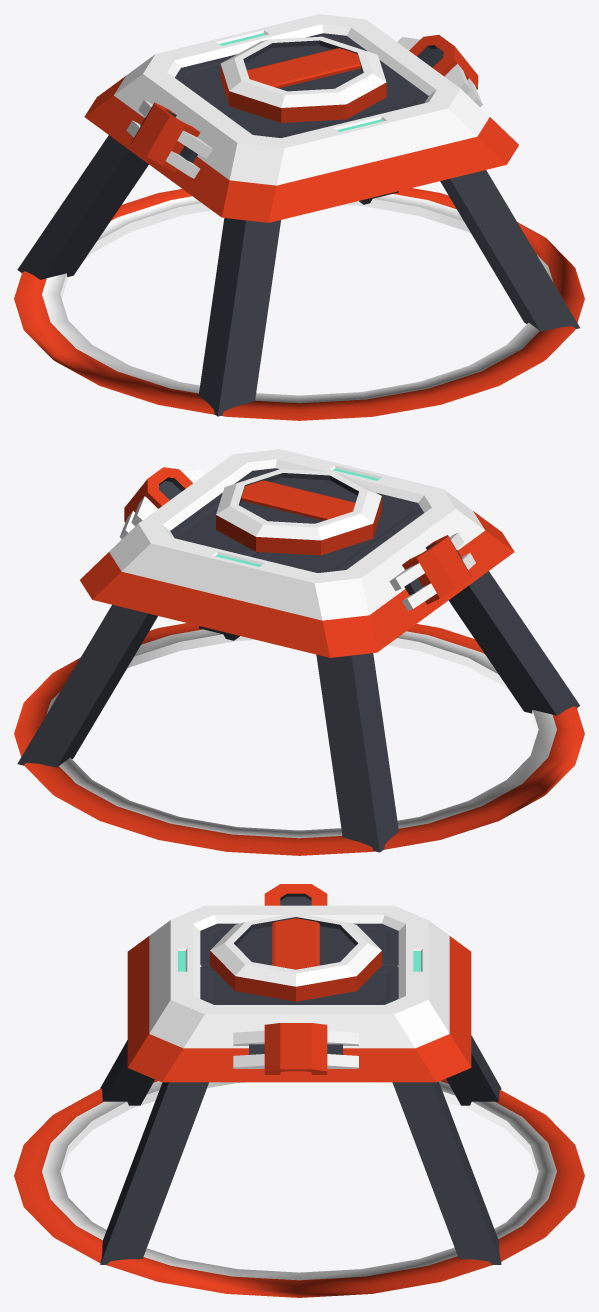
File: SafePoint.fbx
3 views of the same model, one above another, from view 1: azimuth 30°, elevation 25°; view 2: azimuth 150°, elevation 25°; view 3: azimuth 270°, elevation 25° (orthographic).
Visible parts, largest first — view 1: mergedBlocks; view 2: mergedBlocks; view 3: mergedBlocks.
Part boxes in pixels (<box>): mergedBlocks: <box>14,14,584,420</box>; mergedBlocks: <box>14,449,584,855</box>; mergedBlocks: <box>14,884,584,1297</box>.
Size of the model in its own units: 0.1979 by 0.0911 by 0.1979.
